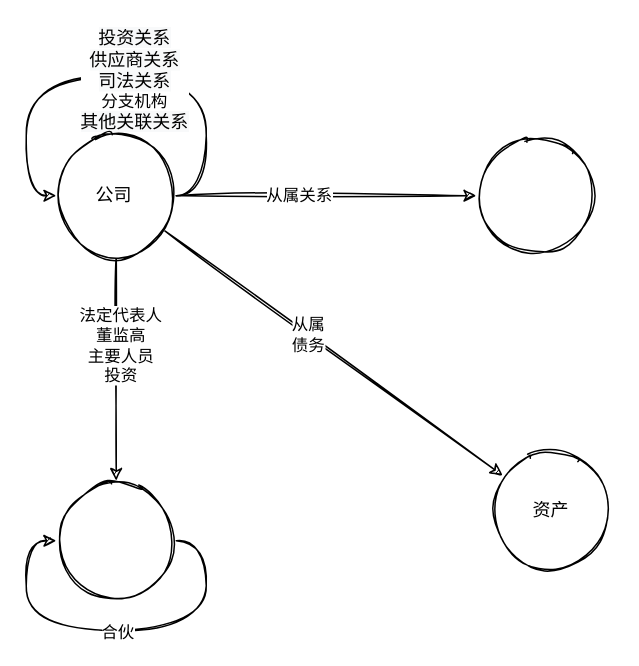
Some shapes in this 639 by 666 pixel diagram are drawn without their labels. The centre of each missing label's shape, as x and y in pixels:
"人员" belongs at point 115,540.
"案件" belongs at point 535,195.
